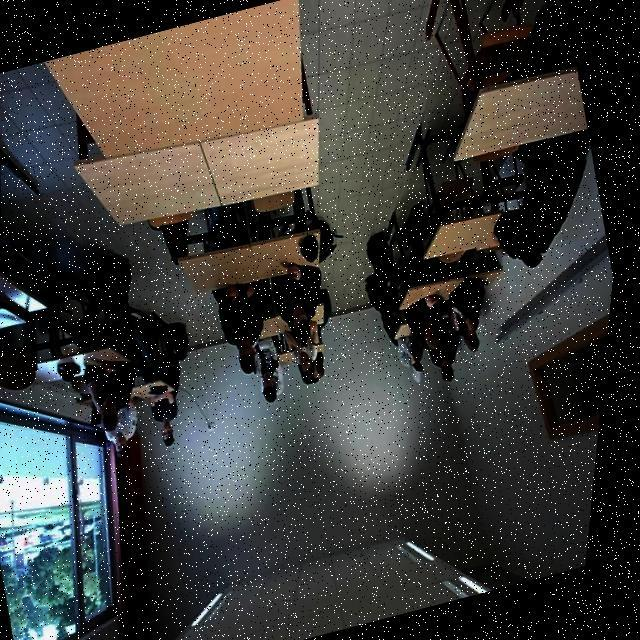phone_use: (212, 274, 292, 372), (71, 348, 135, 446), (266, 264, 328, 347), (404, 294, 462, 366)
